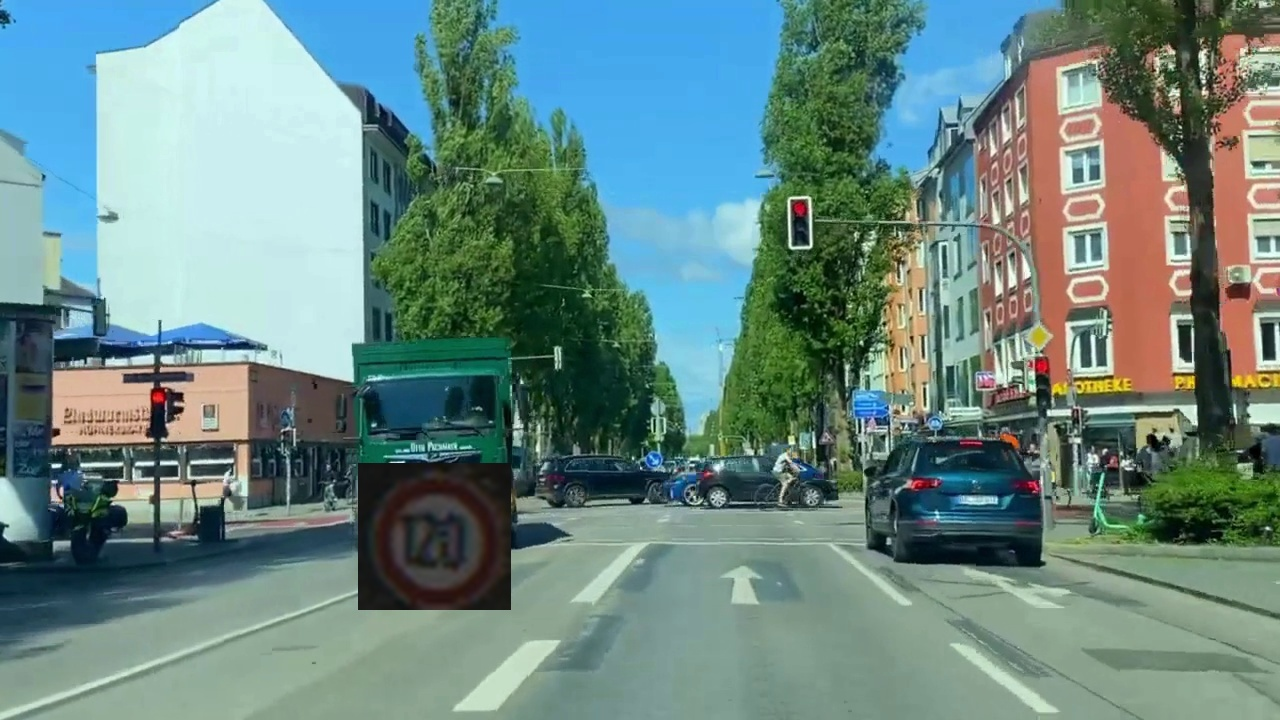Speed 120: (358, 463, 511, 610)
